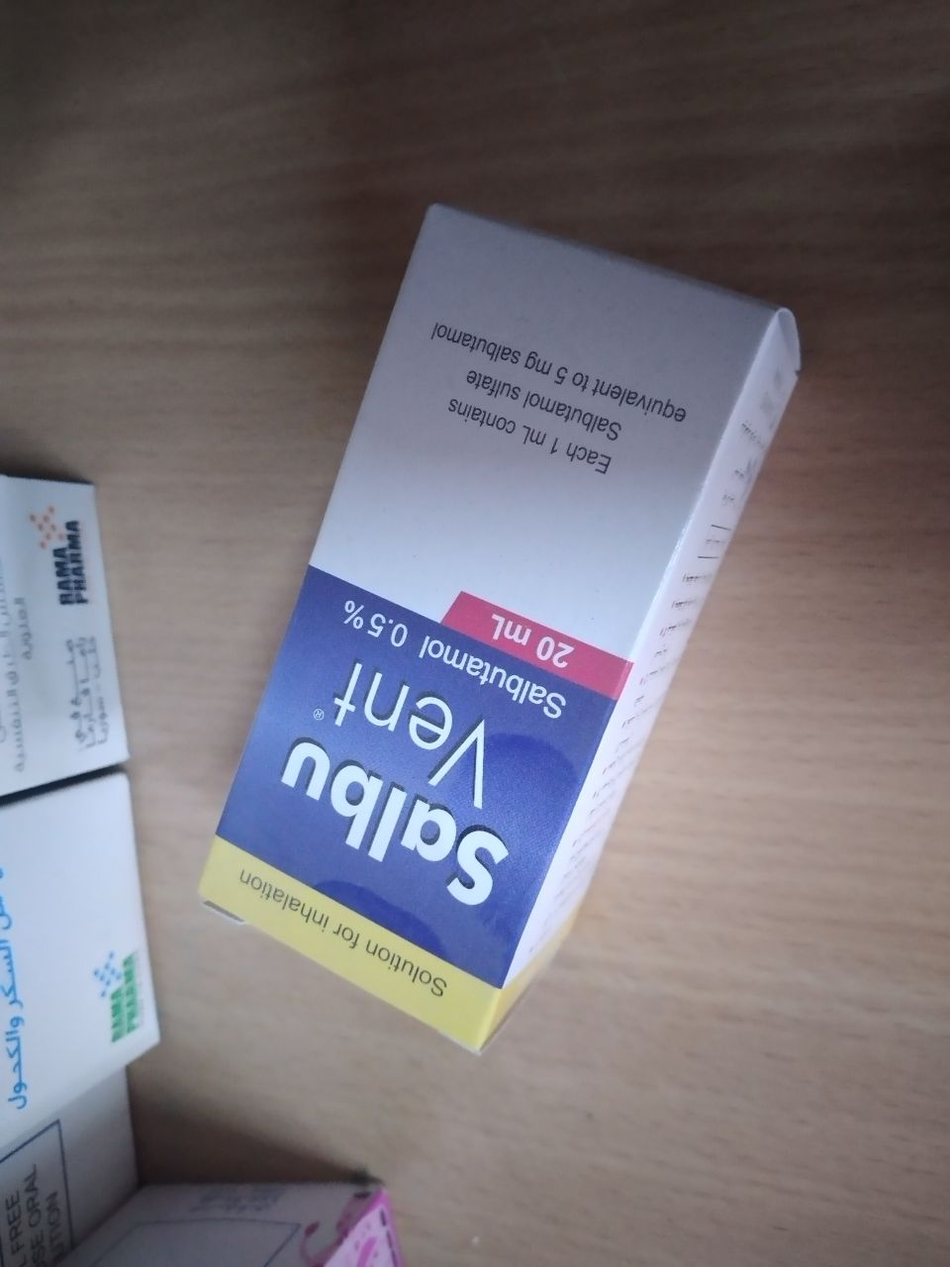Medicine: (178, 181, 838, 1076)
